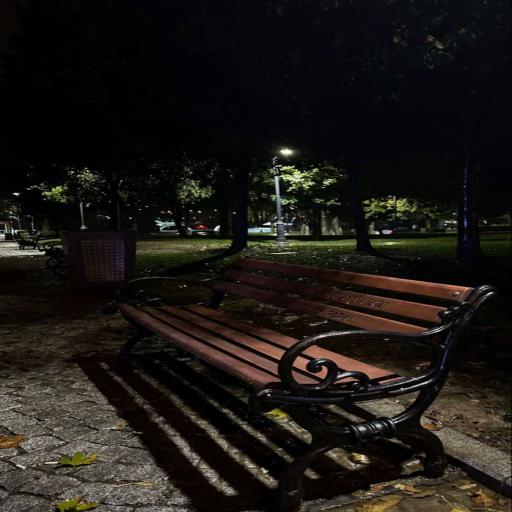elevator: (265, 142, 305, 250)
ramp: (53, 224, 149, 288)
trash_bin: (81, 246, 491, 502)
